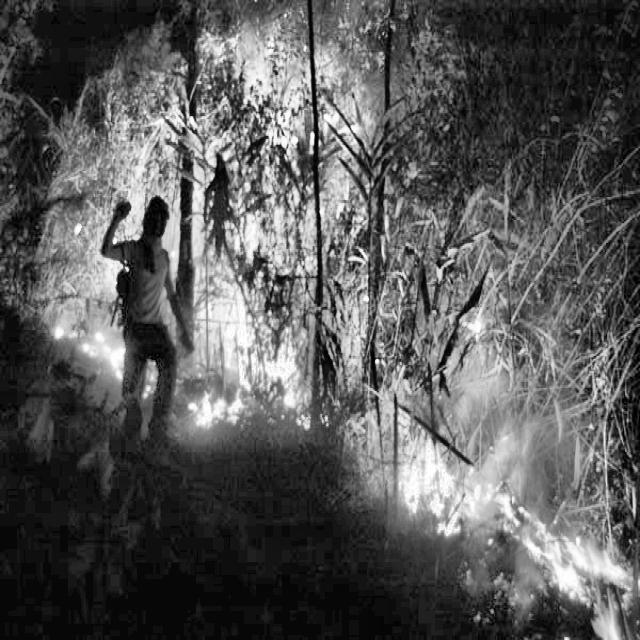fire: (30, 59, 640, 640)
